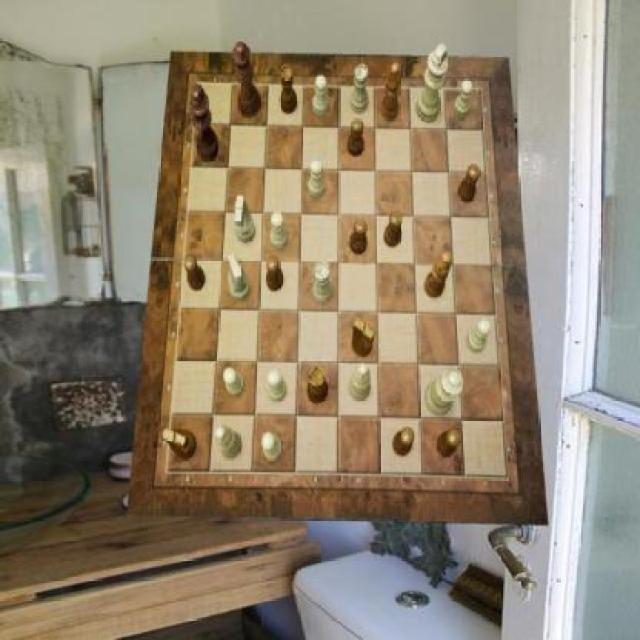bishop: (425, 252, 452, 298), (382, 63, 402, 122)
black-bishop: (191, 85, 220, 163)
black-king: (163, 428, 197, 460), (352, 318, 376, 357)
black-knight: (458, 165, 481, 202), (185, 256, 207, 292), (437, 429, 461, 458), (392, 428, 415, 457), (266, 255, 284, 290), (348, 118, 364, 157), (351, 220, 368, 256), (385, 212, 402, 248)
black-pawn: (232, 42, 262, 119)
black-queen: (280, 66, 298, 116), (306, 366, 329, 404)
black-rook: (349, 363, 372, 402), (217, 424, 243, 458)
white-bishop: (416, 43, 448, 122)
white-king: (228, 254, 250, 301), (236, 197, 256, 245)
white-knight: (468, 319, 492, 353), (454, 80, 473, 120), (268, 369, 288, 403), (312, 75, 328, 117), (271, 212, 288, 250), (224, 369, 246, 397), (308, 160, 324, 198), (262, 434, 282, 461)
white-pawn: (424, 366, 464, 416)
white-queen: (314, 261, 334, 304), (351, 64, 368, 114)
